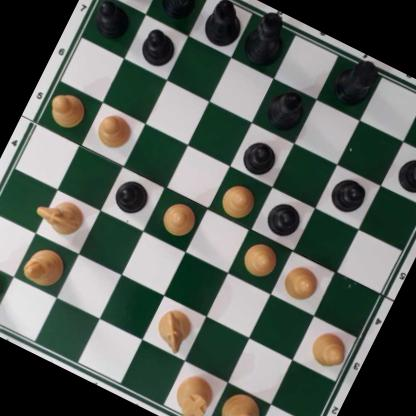black-bishop: (198, 0, 253, 52), (262, 83, 311, 136)
black-king: (238, 5, 297, 71)
black-knight: (152, 0, 208, 23)
black-pawn: (237, 133, 283, 180), (326, 171, 371, 218), (135, 23, 180, 70), (262, 196, 306, 241), (88, 0, 135, 42), (110, 174, 154, 218), (392, 150, 416, 199)
black-rook: (327, 50, 384, 112), (103, 0, 167, 3)
white-bishop: (19, 241, 71, 293)
white-king: (210, 386, 271, 416)
white-knight: (30, 190, 90, 241), (149, 303, 200, 357)
white-pawn: (304, 325, 353, 374), (278, 259, 325, 306), (214, 177, 261, 223), (45, 87, 91, 133), (92, 108, 137, 154), (238, 237, 282, 282), (158, 198, 200, 241)
white-rook: (168, 370, 220, 416), (0, 258, 8, 317)
